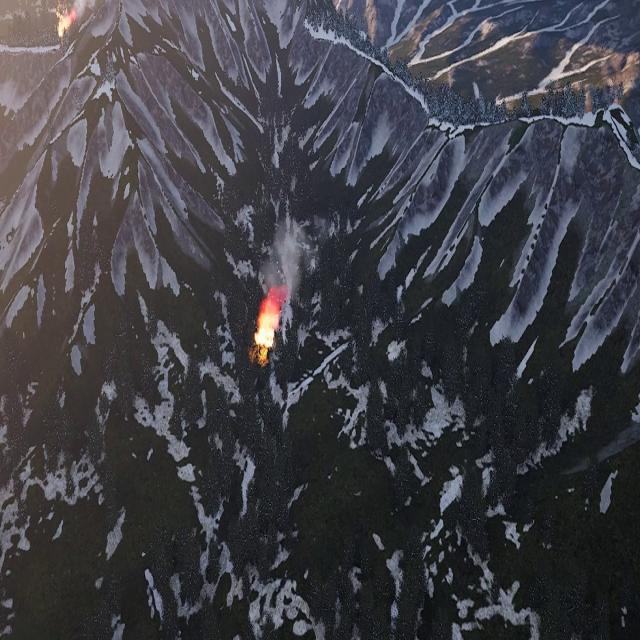fire: (256, 299, 281, 348), (58, 12, 74, 36)
smoke: (258, 220, 318, 302), (59, 0, 96, 21)
